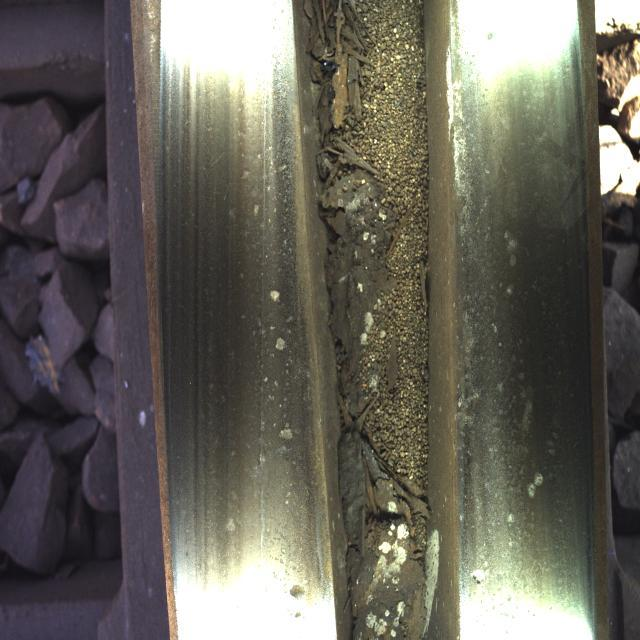scar: (455, 60, 556, 635), (228, 39, 312, 630)
